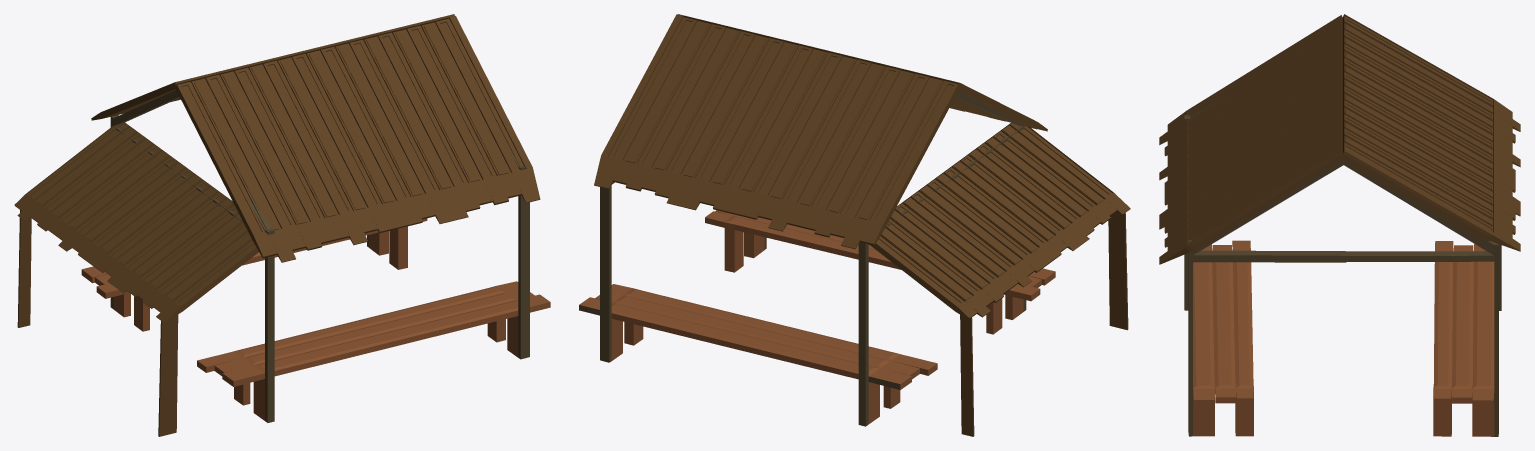
File: Cottage.fbx
3 views of the same model, side by side, from view 1: azimuth 30°, elevation 25°; view 2: azimuth 150°, elevation 25°; view 3: azimuth 270°, elevation 25° (orthographic).
Parts seen in each view (by area): view 1: Cube.030; view 2: Cube.030; view 3: Cube.030.
Part boxes in pixels (bbox=[...]): Cube.030: bbox=[14, 14, 550, 436]; Cube.030: bbox=[579, 14, 1130, 436]; Cube.030: bbox=[1159, 14, 1520, 436].
Bounding box in the file's own units: 223 × 155 × 177.
